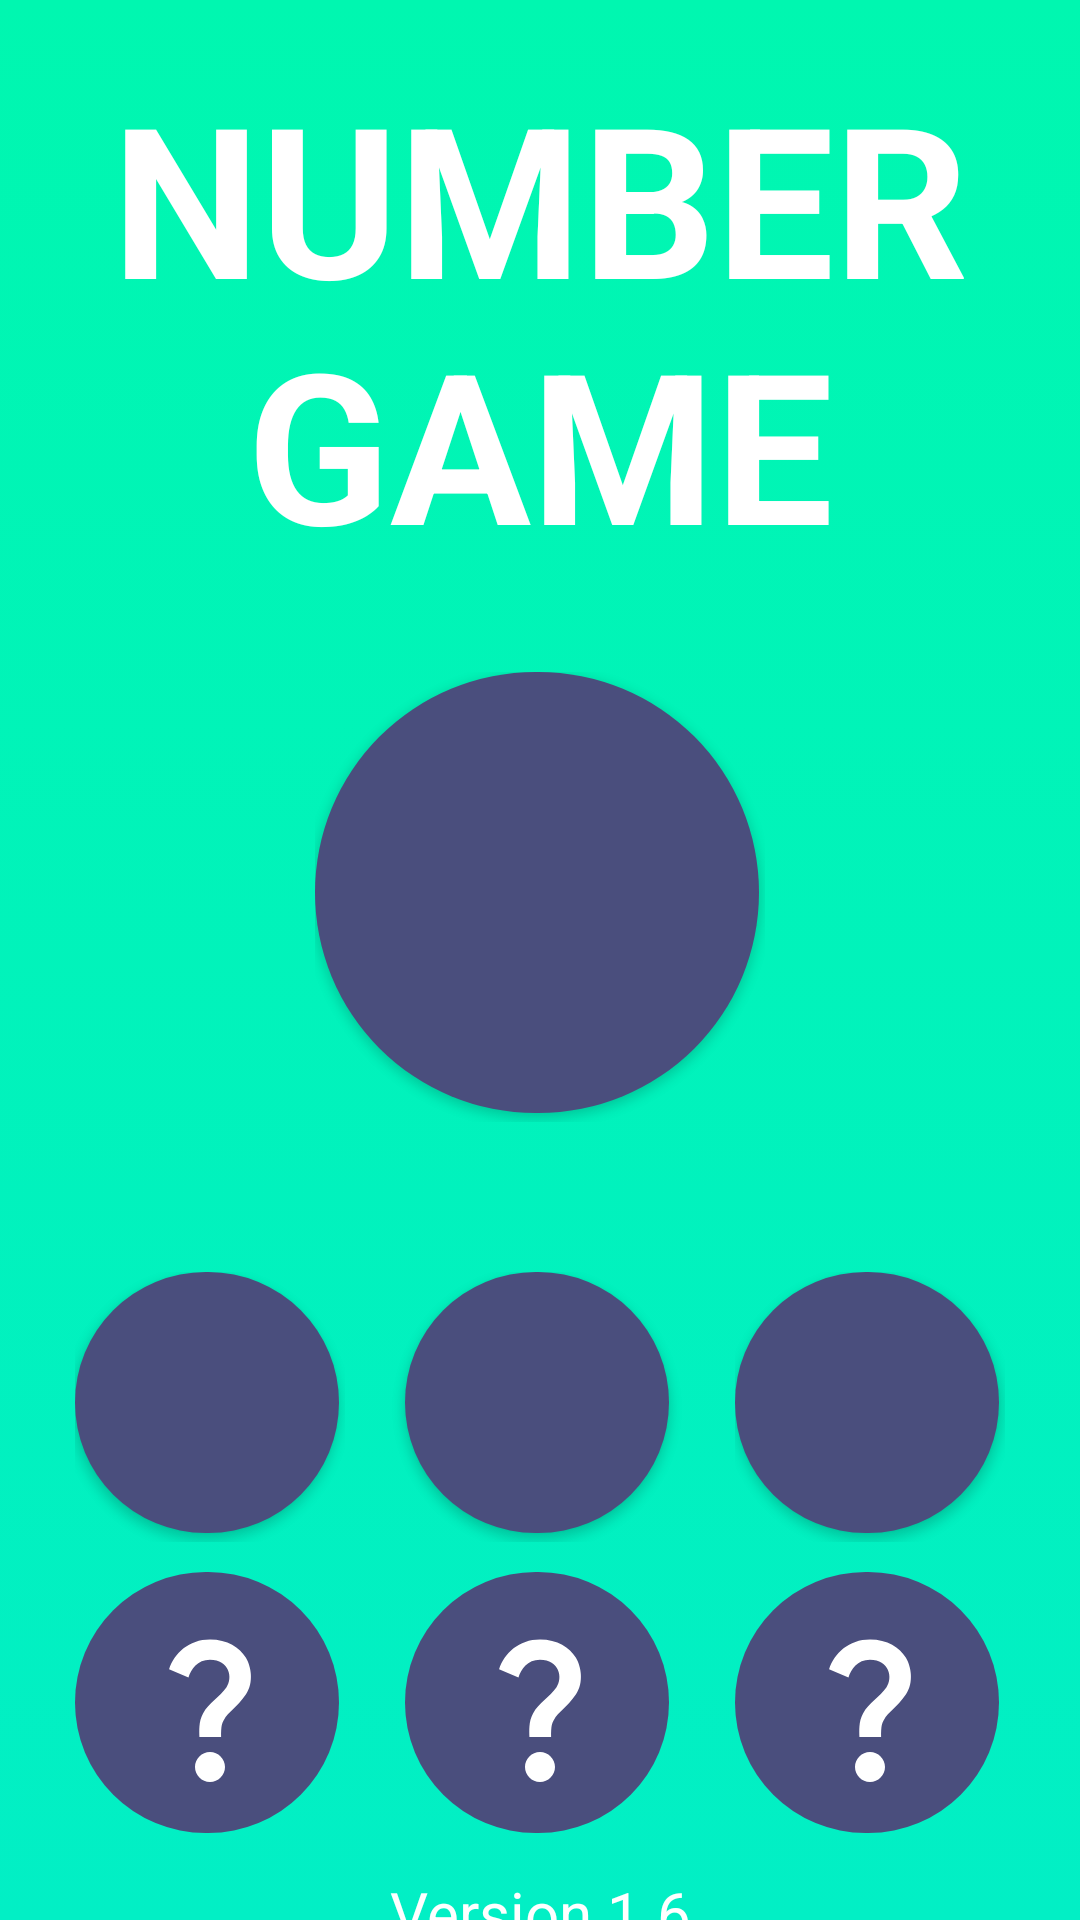

Icons on this 1080 × 1920 Android screen, each with its box as (x1, y1, x2, y2):
question mark: (75, 1572, 339, 1833), (405, 1572, 669, 1833), (735, 1572, 999, 1833)
